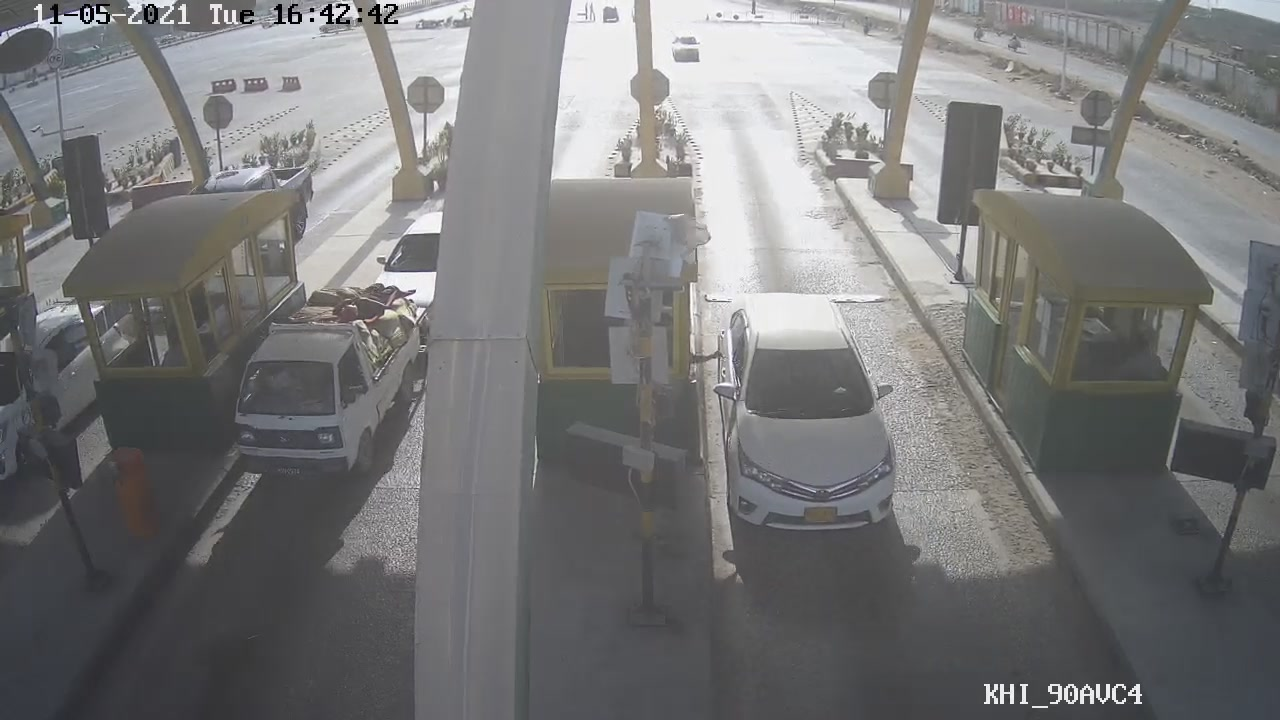F1: (713, 275, 924, 548)
